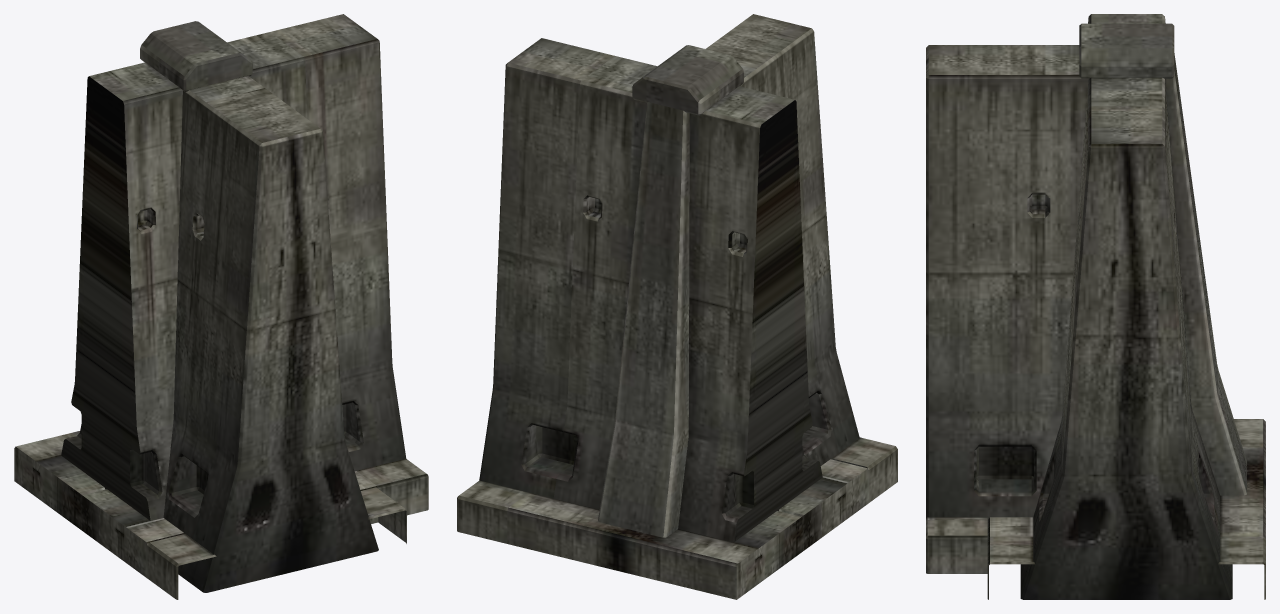
The model's file is stone-wall-es.glb.
3 renders of one model, left to right at view 1: azimuth 30°, elevation 25°; view 2: azimuth 150°, elevation 25°; view 3: azimuth 270°, elevation 25°, orthographic. The views are drawn at different scales.
Parts seen in each view (by area): view 1: body; view 2: body; view 3: body.
Boxes of the visible parts, left/top/right/bottom form: body: left=14, top=14, right=428, bottom=599; body: left=457, top=14, right=897, bottom=599; body: left=926, top=14, right=1265, bottom=599.
Size of the model in its own units: 0.8466 by 1.32 by 0.8466.
Materials: 1 (1 with a texture image).
